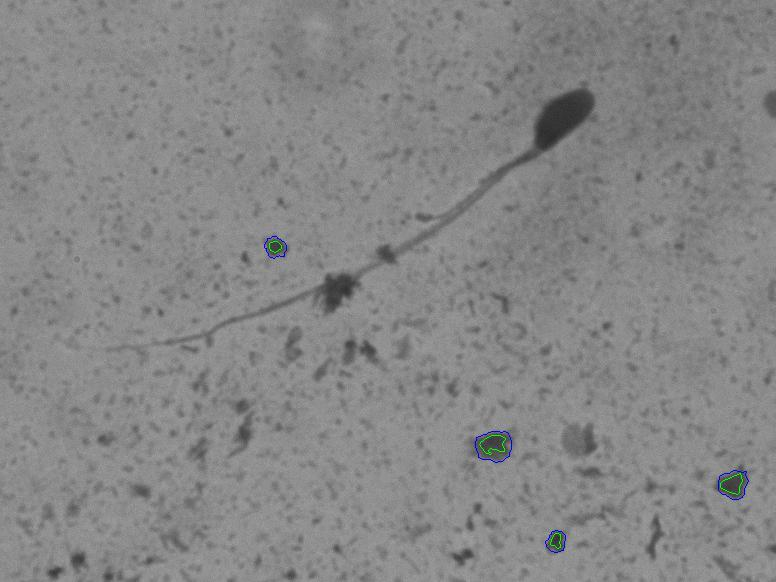Abnormal: (91, 55, 643, 380)
